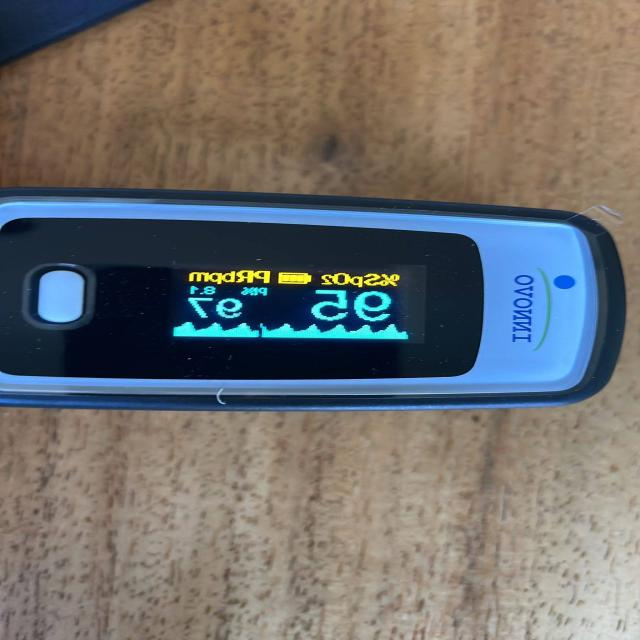spo2: (1, 189, 624, 415)
